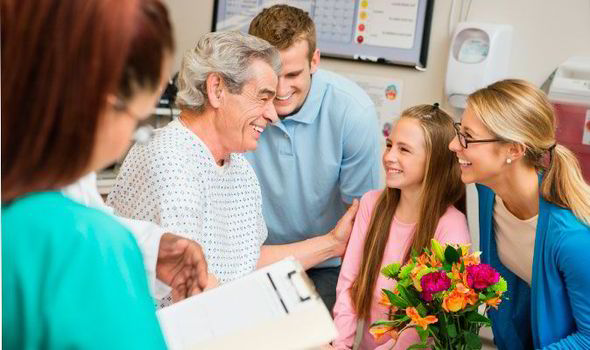visitor: (246, 5, 590, 330)
